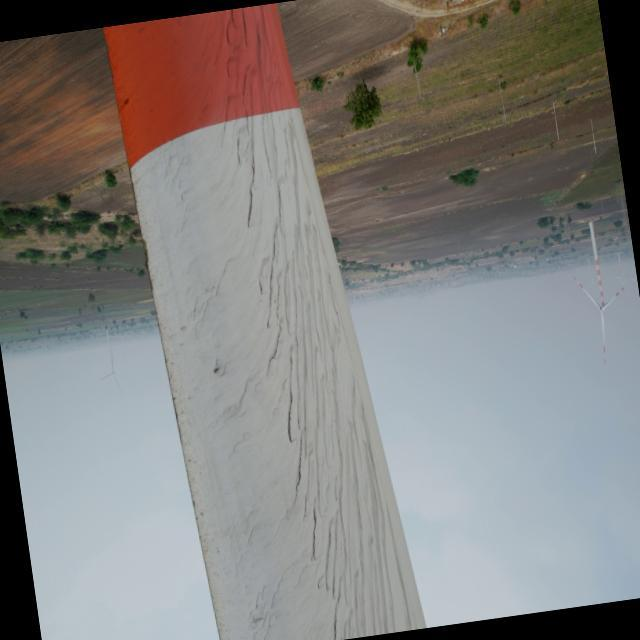Dirt: (188, 14, 434, 640)
